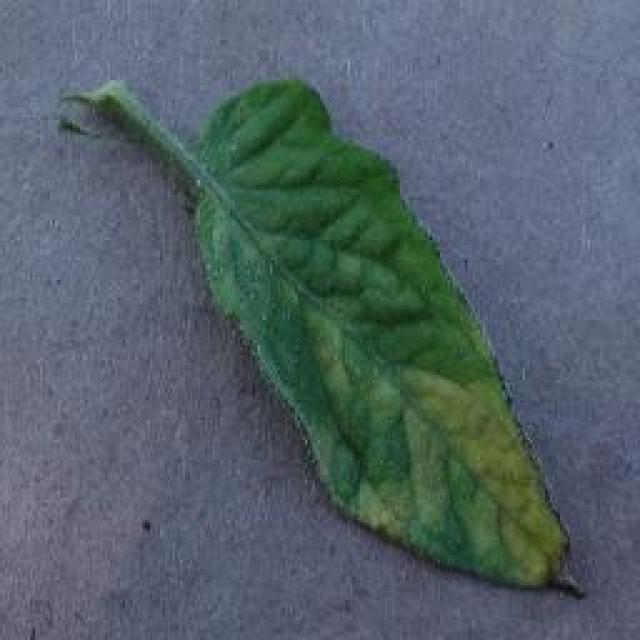Tomato___Leaf_Mold: (60, 80, 582, 595)
